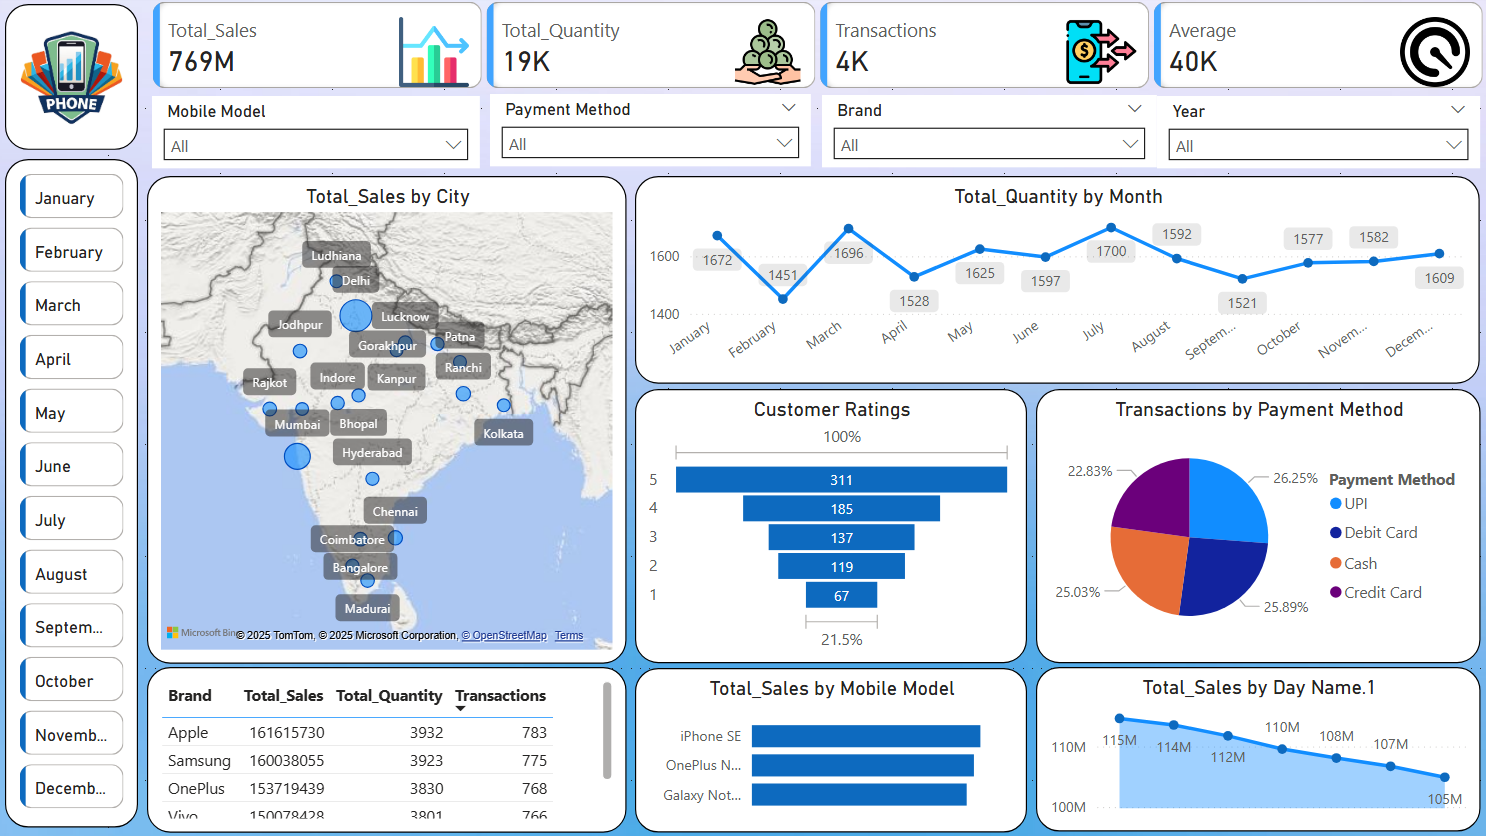

Layout of this report page (visuals, bound fields, positions):
{"tool":"powerbi","page":{"name":"Page 1","canvas":[1280,720],"ordinal":0},"visuals":[{"type":"shape","box":[8,7,114,125],"z":0},{"type":"image","box":[8,0,114,140],"z":1000},{"type":"shape","box":[8,140,114,573],"z":2000},{"type":"advancedSlicerVisual","fields":{"Values":["Sales_data.Date.Variation.Date Hierarchy.Month"]},"box":[15,147,99,558],"z":3000},{"type":"cardVisual","fields":{"Data":["Sales_data.Total_Sales","Sales_data.Total_Quantity","Sales_data.Transactions","Sales_data.Average"]},"box":[129,0,1151,84],"z":4000},{"type":"map","fields":{"Category":["Sales_data.City"],"Size":["Sales_data.Total_Sales"]},"box":[129,154,411,418],"z":5000},{"type":"lineChart","fields":{"Y":["Sales_data.Total_Quantity"],"Category":["Sales_data.Date.Variation.Date Hierarchy.Month","Sales_data.Date.Variation.Date Hierarchy.Day"]},"box":[548,154,724,178],"z":6000},{"type":"clusteredBarChart","fields":{"Category":["Sales_data.Mobile Model"],"Y":["Sales_data.Total_Sales"]},"box":[548,576,336,141],"z":7000},{"type":"pieChart","fields":{"Category":["Sales_data.Payment Method"],"Y":["Sales_data.Transactions"]},"box":[891,337,381,235],"z":8000},{"type":"funnel","title":"Customer Ratings","fields":{"Category":["Sales_data.Customer Ratings"],"Y":["CountNonNull(Sales_data.Customer Ratings)"]},"box":[548,337,336,235],"z":9000},{"type":"areaChart","fields":{"Category":["Sales_data.Day Name.1"],"Y":["Sales_data.Total_Sales"]},"box":[891,575,381,141],"z":10000},{"type":"tableEx","fields":{"Values":["Sales_data.Brand","Sales_data.Total_Sales","Sales_data.Total_Quantity","Sales_data.Transactions"]},"box":[129,575,411,142],"z":11000},{"type":"slicer","fields":{"Values":["Sales_data.Mobile Model"]},"box":[134,86,281,62],"z":12000},{"type":"slicer","fields":{"Values":["Sales_data.Payment Method"]},"box":[423,84,275,62],"z":13000},{"type":"slicer","fields":{"Values":["Sales_data.Date.Variation.Date Hierarchy.Year"]},"box":[995,86,277,62],"z":14000},{"type":"slicer","fields":{"Values":["Sales_data.Brand"]},"box":[708,85,287,62],"z":15000}]}

Visuals, with their boxes in screenshot pixels (x1, y1, x2, y2), scaled from the page's 1280x720 canvas onto the 1486x836 screenshot:
shape: [9,8,142,153]
image: [9,0,142,163]
shape: [9,163,142,828]
advancedSlicerVisual - Sales_data.Date.Variation.Date Hierarchy.Month: [17,171,132,819]
cardVisual - Sales_data.Total_Sales x Sales_data.Total_Quantity: [150,0,1485,98]
map - Sales_data.City x Sales_data.Total_Sales: [150,179,627,664]
lineChart - Sales_data.Total_Quantity x Sales_data.Date.Variation.Date Hierarchy.Month: [636,179,1477,385]
clusteredBarChart - Sales_data.Mobile Model x Sales_data.Total_Sales: [636,669,1026,833]
pieChart - Sales_data.Payment Method x Sales_data.Transactions: [1034,391,1477,664]
"Customer Ratings" funnel: [636,391,1026,664]
areaChart - Sales_data.Day Name.1 x Sales_data.Total_Sales: [1034,668,1477,831]
tableEx - Sales_data.Brand x Sales_data.Total_Sales: [150,668,627,833]
slicer - Sales_data.Mobile Model: [156,100,482,172]
slicer - Sales_data.Payment Method: [491,98,810,170]
slicer - Sales_data.Date.Variation.Date Hierarchy.Year: [1155,100,1477,172]
slicer - Sales_data.Brand: [822,99,1155,171]
